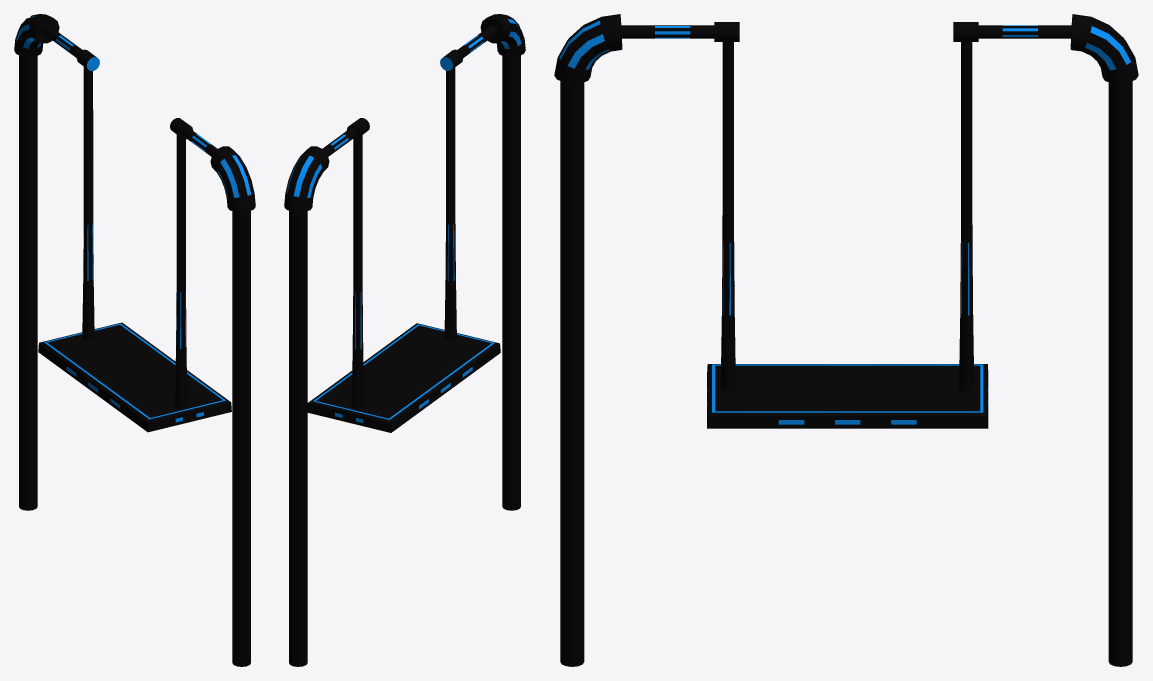
File: Swing.FBX
The picture shows the model from 3 angles, left to right: view 1: azimuth 30°, elevation 25°; view 2: azimuth 150°, elevation 25°; view 3: azimuth 270°, elevation 25°; orthographic projection. The views are drawn at different scales.
Visible parts, largest first — view 1: swing, Cylinder118, Cylinder117; view 2: swing, Cylinder117, Cylinder118; view 3: swing, Cylinder118, Cylinder117.
Boxes of the visible parts, bbox=[...] form: swing: bbox=[38, 49, 231, 432]; Cylinder118: bbox=[182, 127, 255, 666]; Cylinder117: bbox=[14, 14, 82, 510]; swing: bbox=[307, 49, 500, 432]; Cylinder117: bbox=[284, 127, 357, 666]; Cylinder118: bbox=[457, 14, 525, 510]; swing: bbox=[707, 22, 988, 428]; Cylinder118: bbox=[554, 14, 714, 666]; Cylinder117: bbox=[978, 14, 1138, 666].
Bounding box in the file's own units: 162 × 925 × 758.
